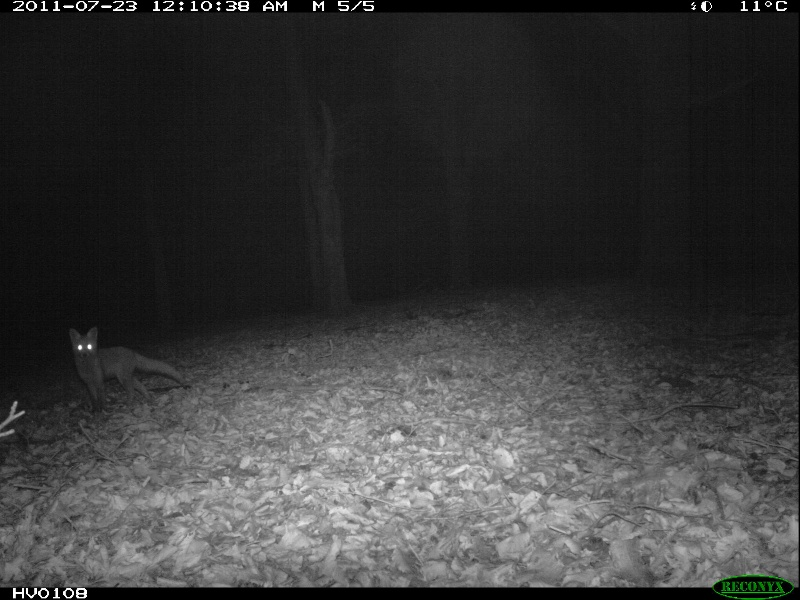fox: (66, 325, 196, 408)
